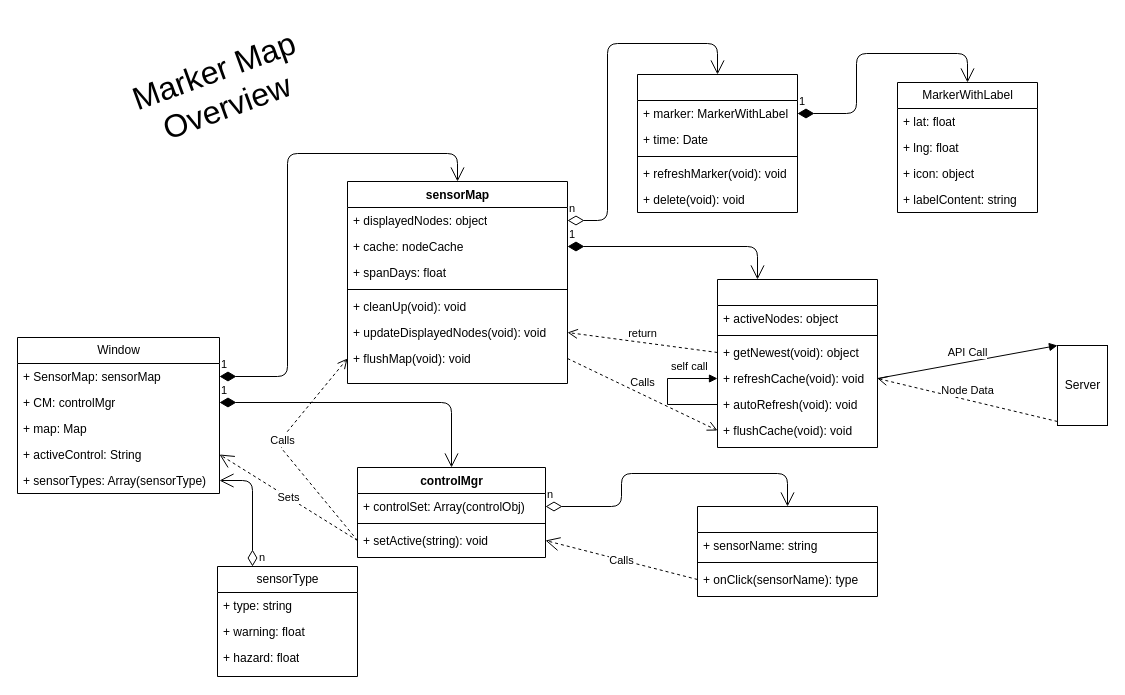
Image size: 1125x695. Some labels were removed from this diagram. The shapes that lost their labels are listed below. From the top down, each one's box as (x1, y1, x2, y2) in pixels, then its label:
(636, 74, 798, 212): sensorNode
(716, 278, 878, 448): nodeCache
(696, 506, 878, 596): controlObj
